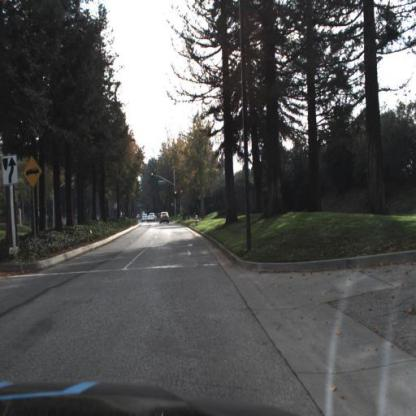car: (159, 211, 171, 227), (146, 210, 158, 224), (161, 211, 171, 227), (148, 212, 158, 224), (141, 212, 149, 222)
